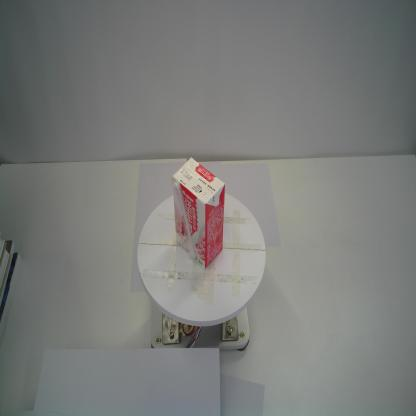Milk: (172, 156, 227, 272)
